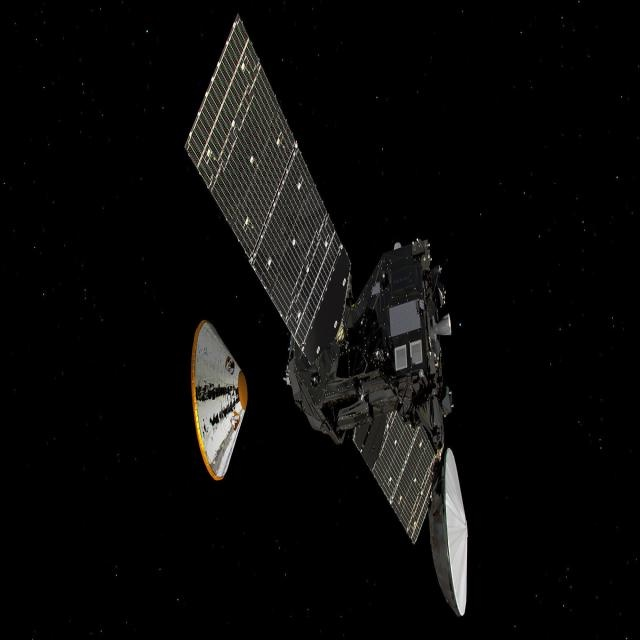satellite: (173, 2, 484, 630)
